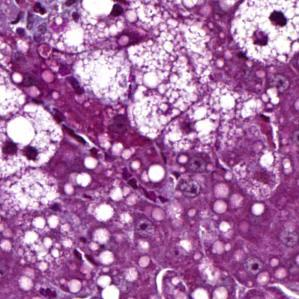ballooning: (4, 68, 64, 183), (228, 3, 294, 68)
